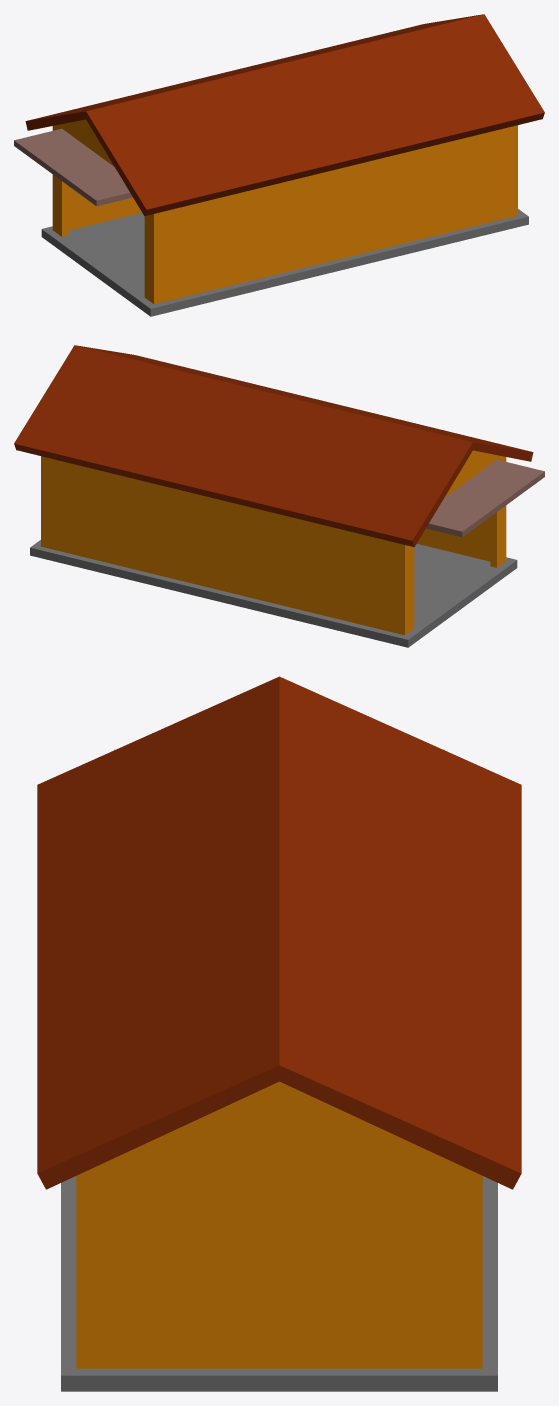
File: garage.fbx
3 renders of one model, top to bottom at view 1: azimuth 30°, elevation 25°; view 2: azimuth 150°, elevation 25°; view 3: azimuth 270°, elevation 25°, orthographic. The views are drawn at different scales.
Visible parts, largest first — view 1: Roof, Base, Door; view 2: Roof, Base, Door; view 3: Roof, Base.
Boxes of the visible parts, x1,y1,x2,y2 form: Roof: [25, 14, 544, 216]; Base: [41, 119, 528, 316]; Door: [14, 128, 132, 206]; Roof: [14, 345, 533, 547]; Base: [30, 450, 517, 647]; Door: [426, 459, 544, 537]; Roof: [37, 676, 521, 1189]; Base: [61, 1081, 497, 1391].
Bounding box in the file's own units: 1109 × 2269 × 849.
